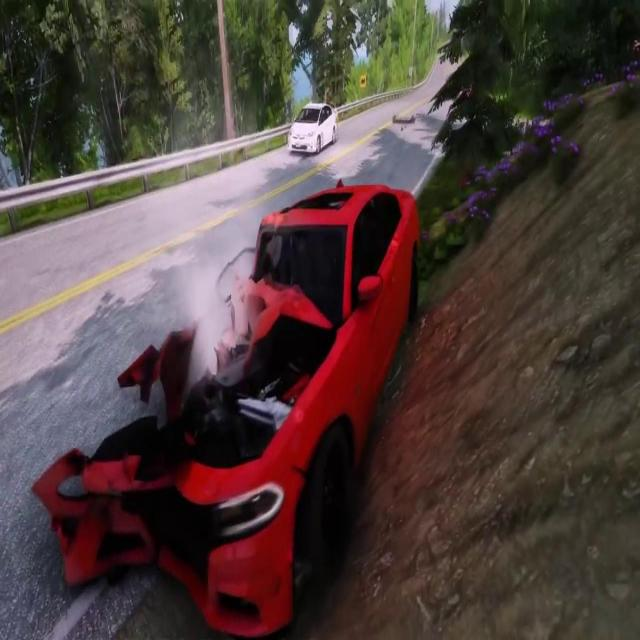severe: (29, 170, 425, 636)
